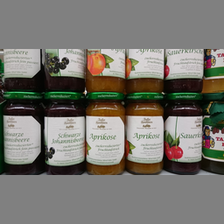jam: (43, 92, 88, 175), (85, 92, 129, 175), (1, 91, 45, 174), (164, 92, 205, 175), (126, 93, 166, 176), (202, 93, 224, 175), (125, 49, 165, 94), (86, 50, 127, 93), (44, 50, 85, 93), (165, 50, 205, 93), (3, 50, 45, 90)
